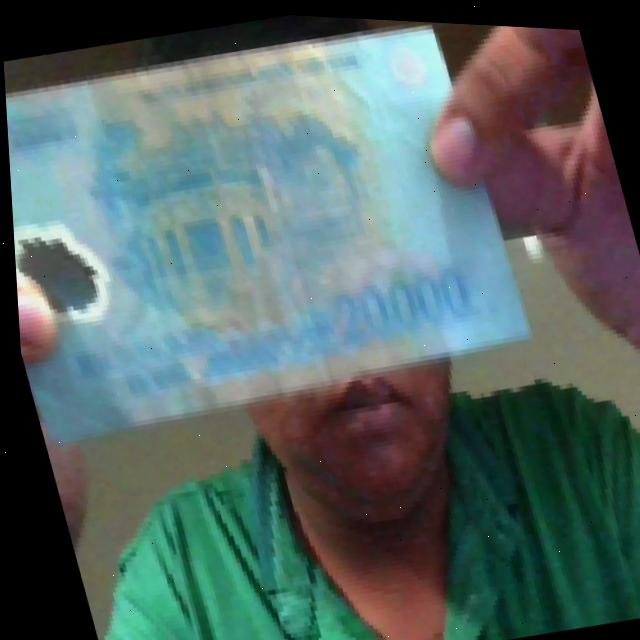20 000 VND: (0, 0, 545, 469)
